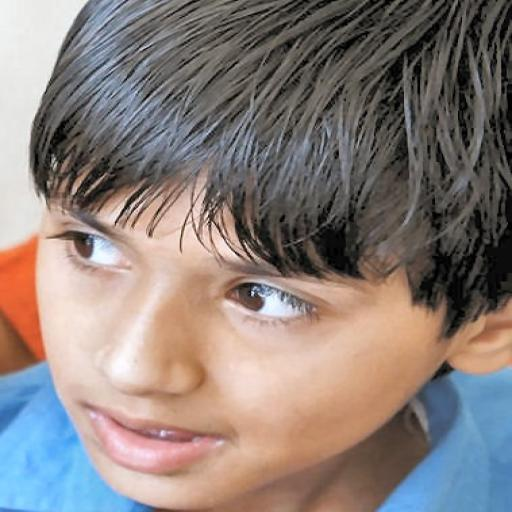Autism: (31, 11, 512, 512)
